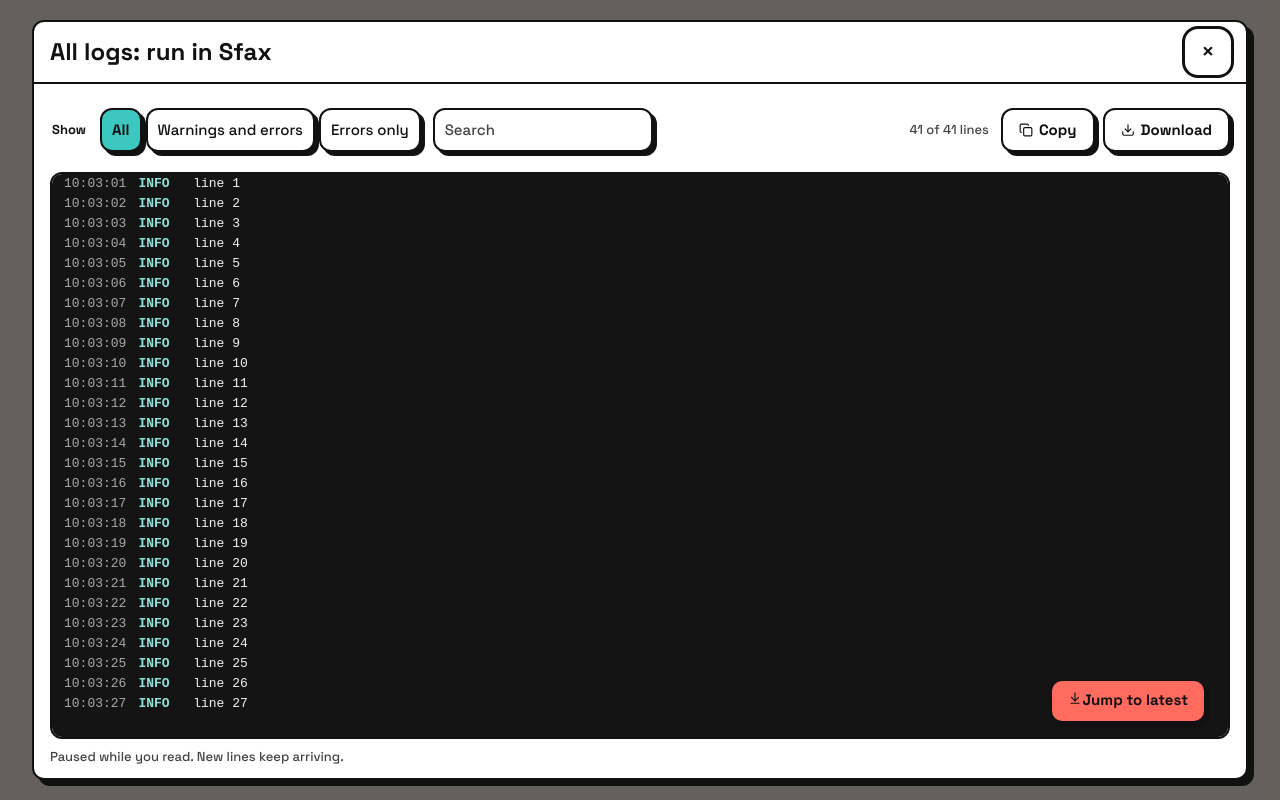
LogModal › pauses when you scroll up, keeps your place as lines arrive, and resumes on Jump to latest
The width and height of the screenshot is (1280, 800).
(page scrolled)
Expected: the text "Paused while you read. New lines keep arriving." is shown, [50,748,344,764]
Expected: the text "41 of 41 lines" is shown, [910,120,989,140]
Click the button "Jump to latest" at (1128, 700), box [1050,678,1206,722]
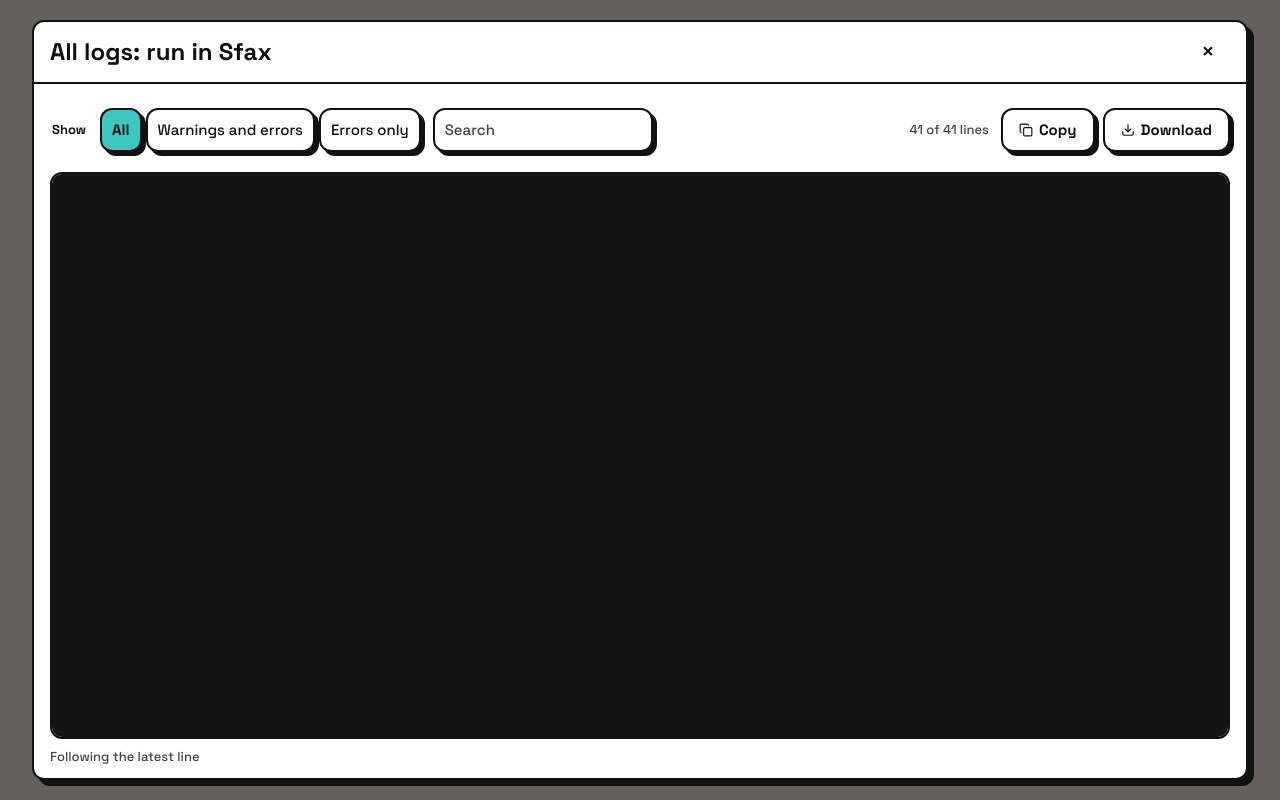
Result: the button "Jump to latest" is gone
Result: the text "Following the latest line" is shown at [50,748,200,764]
